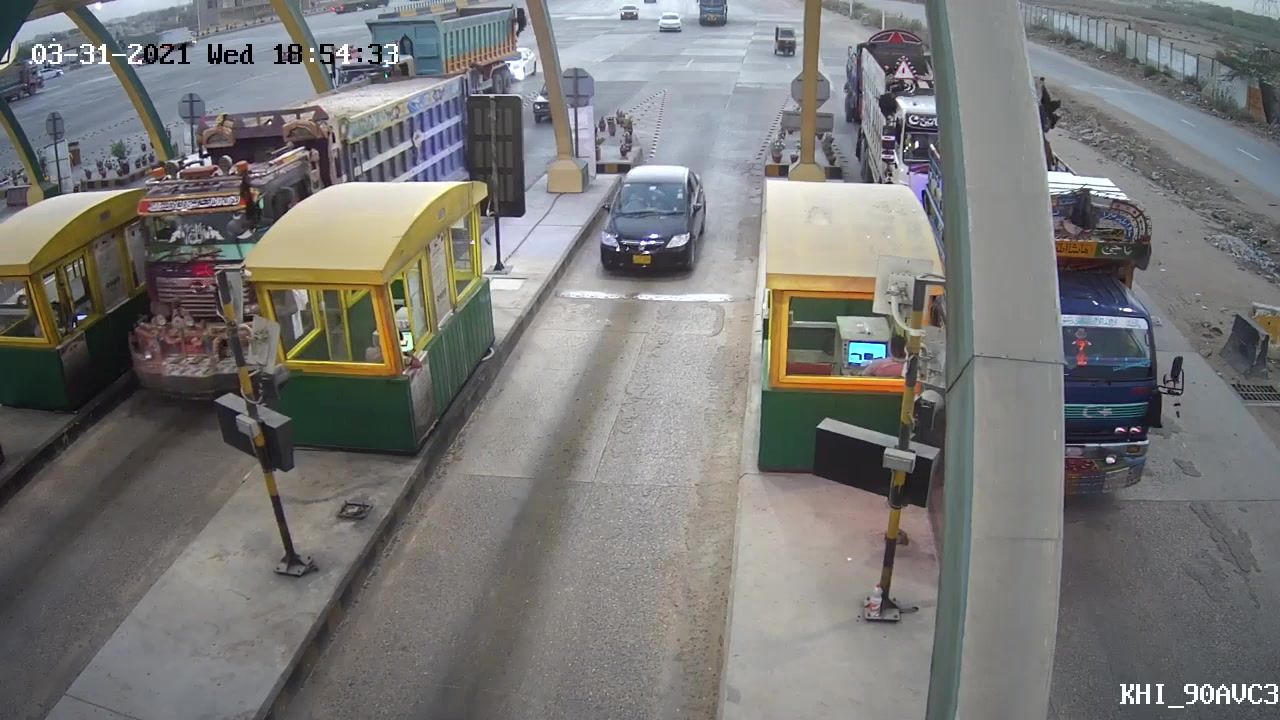F1: (582, 161, 712, 284)
